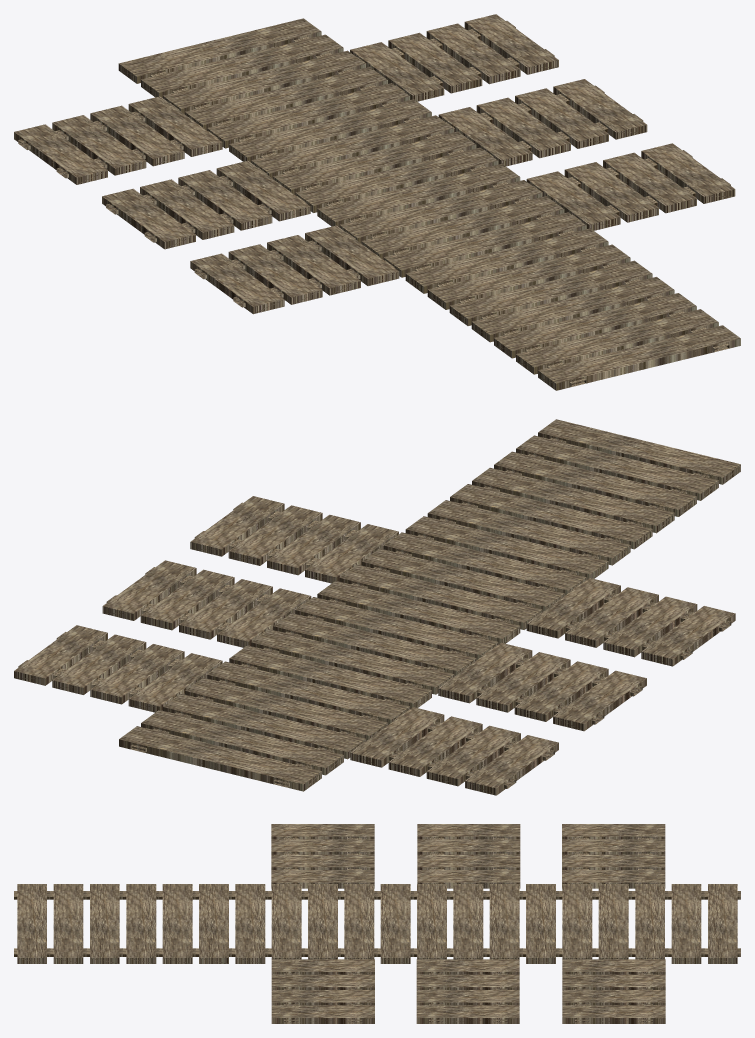
File: portal-boardwalk.fbx
3 renders of one model, top to bottom at view 1: azimuth 30°, elevation 25°; view 2: azimuth 150°, elevation 25°; view 3: azimuth 270°, elevation 25°, orthographic. The views are drawn at different scales.
Visible parts, largest first — view 1: Cube, Cube.002, Cube.001, Cube.003, Cube.006, Cube.005, Cube.004; view 2: Cube, Cube.002, Cube.001, Cube.003, Cube.005, Cube.006, Cube.004; view 3: Cube, Cube.006, Cube.005, Cube.004, Cube.003, Cube.002, Cube.001.
Part boxes in pixels (x1,y1,x2,y2): Cube: (118,18,740,390); Cube.002: (102,160,310,249); Cube.001: (190,225,399,314); Cube.003: (14,96,222,184); Cube.006: (350,14,558,101); Cube.005: (438,79,647,166); Cube.004: (526,143,735,230); Cube: (119,419,740,791); Cube.002: (438,642,646,731); Cube.001: (526,578,735,666); Cube.003: (350,707,558,795); Cube.005: (102,560,311,647); Cube.006: (14,625,222,712); Cube.004: (190,496,398,583); Cube: (14,884,740,963); Cube.006: (562,959,665,1023); Cube.005: (416,959,519,1023); Cube.004: (271,959,374,1023); Cube.003: (562,824,665,888); Cube.002: (417,824,520,888); Cube.001: (271,824,374,888).
Size of the model in its own units: 569 by 8.09 by 889.
Materials: 1 (1 with a texture image).
